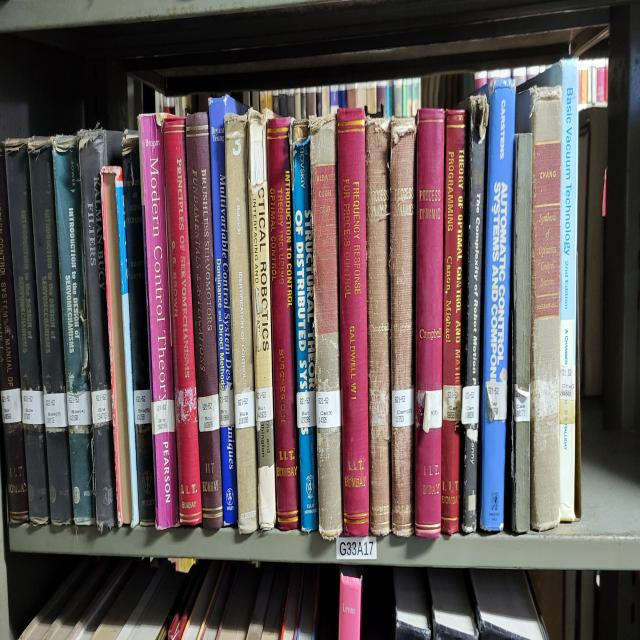Book: (28, 138, 74, 525), (79, 127, 122, 530), (5, 138, 50, 522), (52, 135, 95, 525), (139, 114, 179, 528), (209, 95, 246, 525), (185, 114, 222, 528), (225, 114, 259, 533), (122, 130, 155, 525), (415, 108, 445, 538), (461, 95, 489, 533), (291, 122, 319, 533), (248, 111, 275, 528), (0, 143, 29, 525), (390, 116, 416, 536), (441, 108, 466, 536), (315, 333, 342, 538)
Label: (316, 390, 341, 427), (391, 387, 414, 427), (44, 392, 68, 430), (66, 390, 91, 425), (422, 390, 442, 433), (21, 390, 45, 425), (198, 395, 220, 433), (235, 390, 255, 430), (0, 387, 21, 425), (461, 384, 480, 425), (296, 390, 316, 427), (91, 390, 112, 425), (442, 384, 461, 422), (219, 384, 235, 427), (255, 387, 274, 422), (134, 390, 151, 425), (515, 384, 530, 422)
